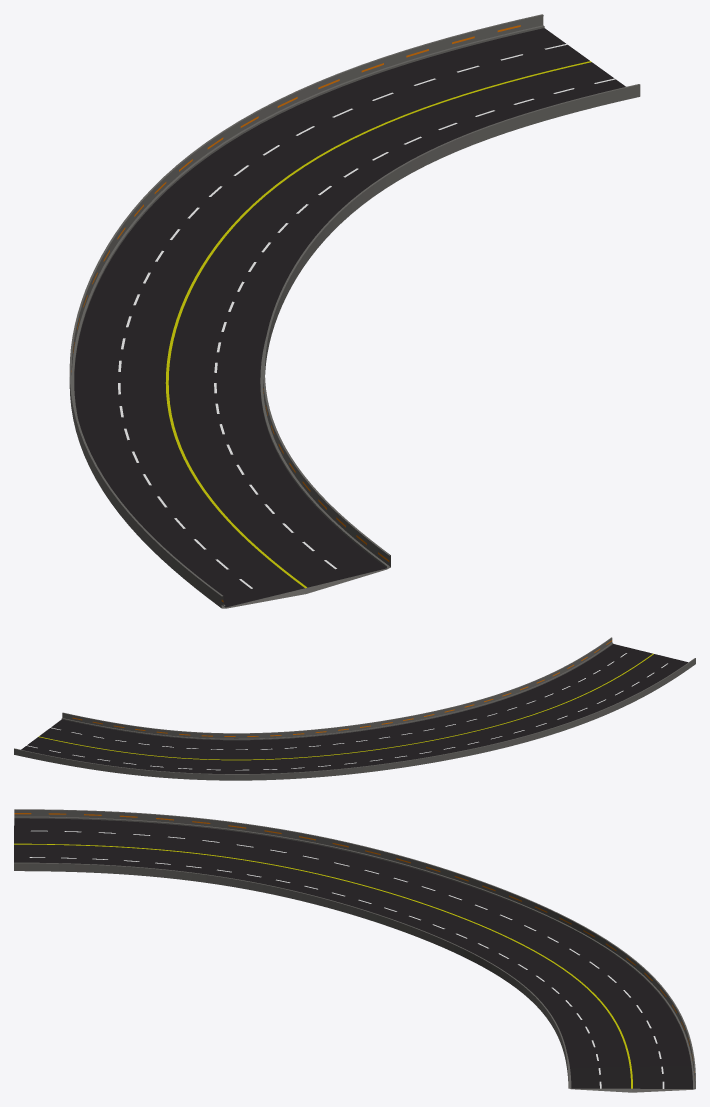
File: Street90Turn.fbx
3 views of the same model, one above another, from view 1: azimuth 30°, elevation 25°; view 2: azimuth 150°, elevation 25°; view 3: azimuth 270°, elevation 25° (orthographic). The views are drawn at different scales.
Visible parts, largest first — view 1: Street, Barrier; view 2: Street, Barrier; view 3: Street, Barrier.
Boxes of the visible parts, <box> form: Street: <box>74,28,625,607</box>; Barrier: <box>69,14,640,608</box>; Street: <box>21,644,688,773</box>; Barrier: <box>14,637,695,780</box>; Street: <box>14,818,692,1088</box>; Barrier: <box>14,809,695,1092</box>.
Size of the model in its own units: 35595 by 922 by 38179.
